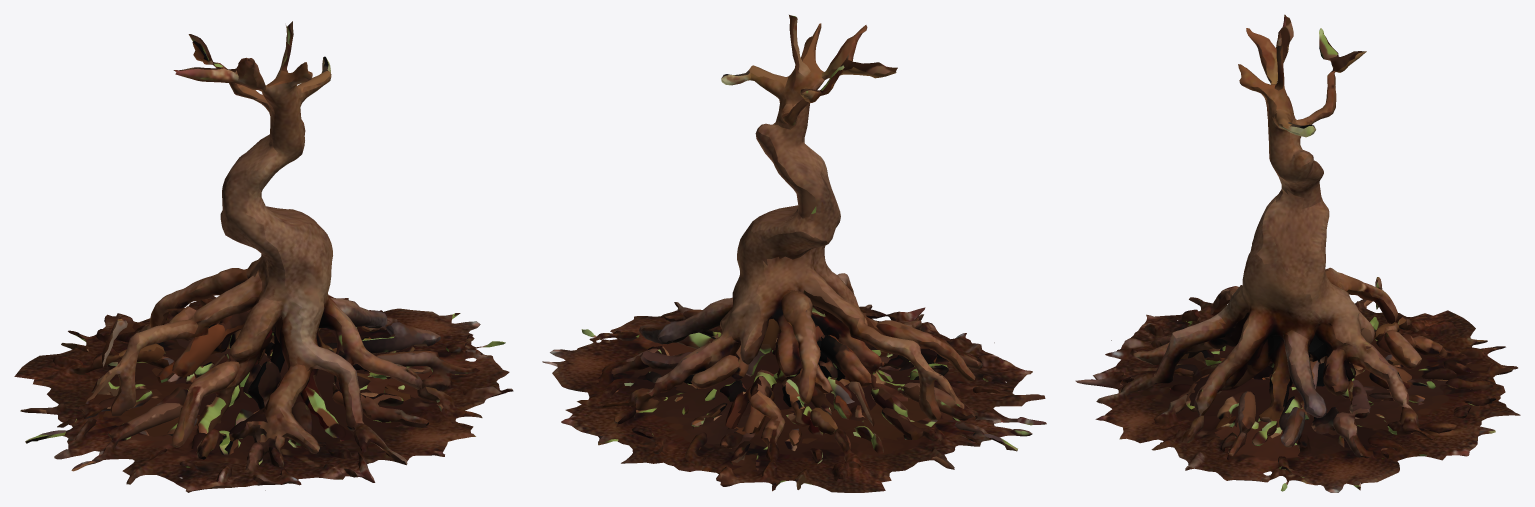
The picture shows the model from 3 angles, left to right: view 1: azimuth 30°, elevation 25°; view 2: azimuth 150°, elevation 25°; view 3: azimuth 270°, elevation 25°; orthographic projection. The views are drawn at different scales.
Parts seen in each view (by area): view 1: tmpmxcs04bb.ply; view 2: tmpmxcs04bb.ply; view 3: tmpmxcs04bb.ply.
Boxes of the visible parts, x1=… form: tmpmxcs04bb.ply: x1=14, y1=21, x2=513, y2=492; tmpmxcs04bb.ply: x1=542, y1=15, x2=1046, y2=492; tmpmxcs04bb.ply: x1=1075, y1=14, x2=1520, y2=492.
Size of the model in its own units: 4.41 by 3.46 by 3.94.
Materials: 1 (1 with a texture image).
